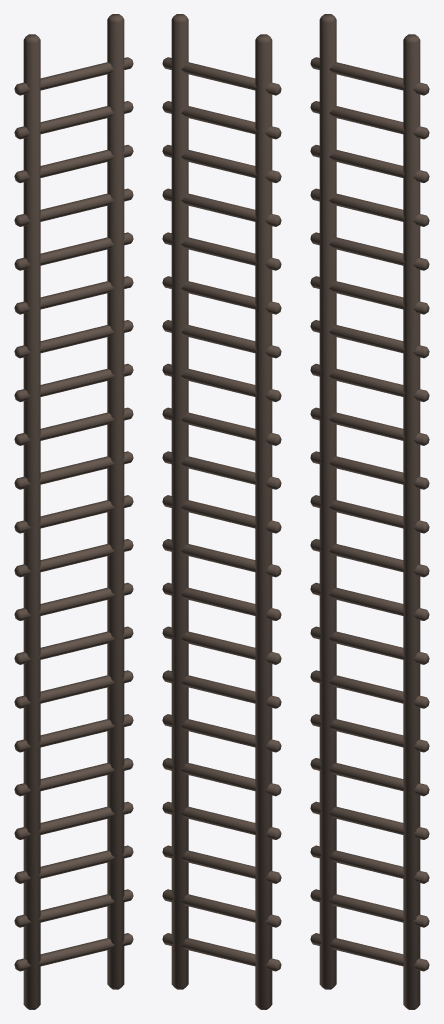
The picture shows the model from 3 angles, left to right: view 1: azimuth 30°, elevation 25°; view 2: azimuth 150°, elevation 25°; view 3: azimuth 330°, elevation 25°; orthographic projection.
Visible parts, largest first — view 1: ladder_0; view 2: ladder_0; view 3: ladder_0.
Part boxes in pixels (x1=…): ladder_0: x1=14, y1=14, x2=133, y2=1009; ladder_0: x1=162, y1=14, x2=281, y2=1009; ladder_0: x1=310, y1=14, x2=429, y2=1009.
Size of the model in its own units: 0.4673 by 3.77 by 0.0595.
